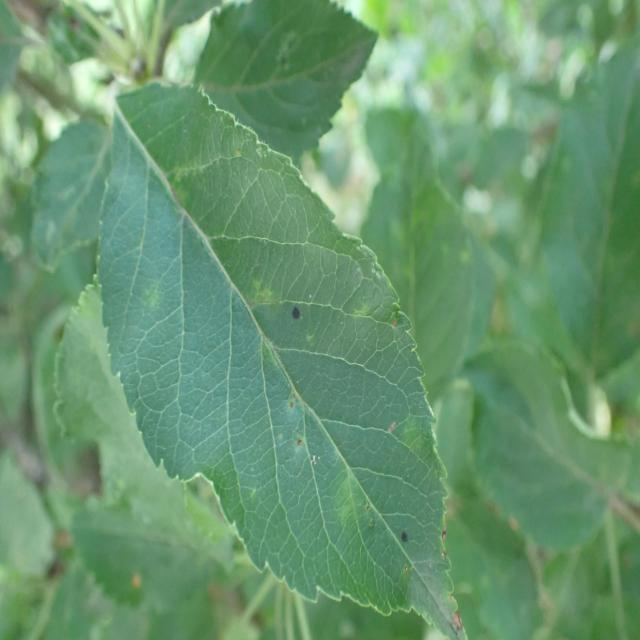scab: (115, 72, 462, 625)
